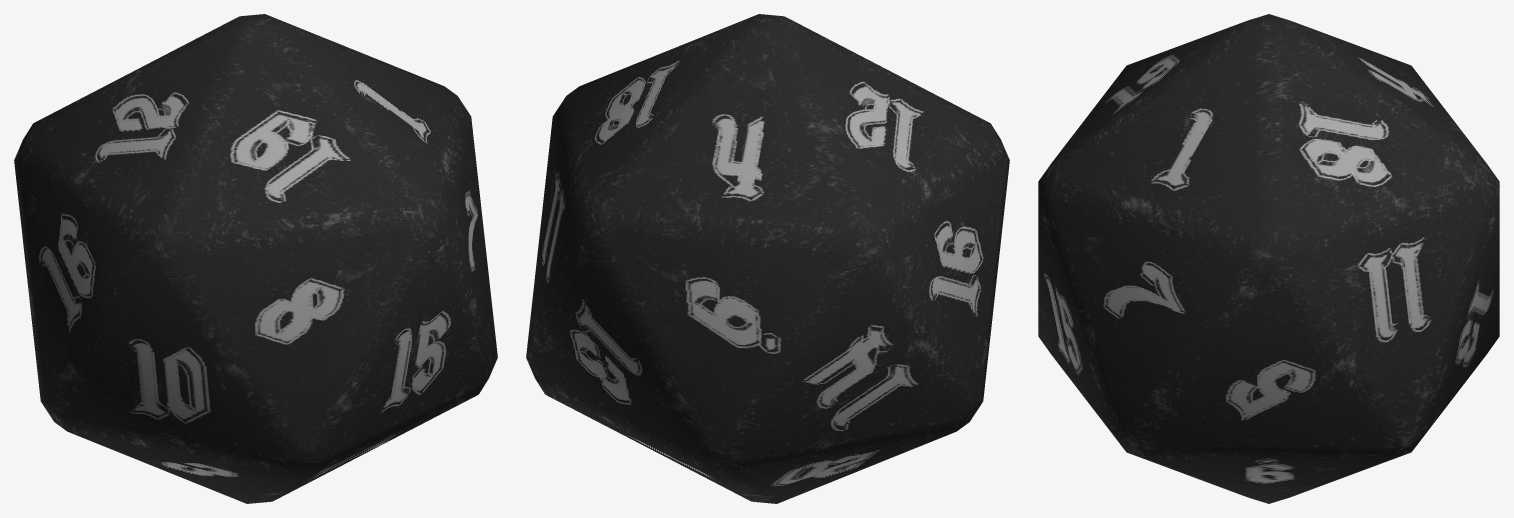
3 views of the same model, side by side, from view 1: azimuth 30°, elevation 25°; view 2: azimuth 150°, elevation 25°; view 3: azimuth 270°, elevation 25° (orthographic).
Visible parts, largest first — view 1: LowPoliUnwrapped; view 2: LowPoliUnwrapped; view 3: LowPoliUnwrapped.
Part boxes in pixels (x1,y1,x2,y2): LowPoliUnwrapped: (14,14,497,503); LowPoliUnwrapped: (526,14,1009,503); LowPoliUnwrapped: (1038,14,1499,503).
Bounding box in the file's own units: 0.2388 × 0.2561 × 0.2271.
1 material, 1 textured.
